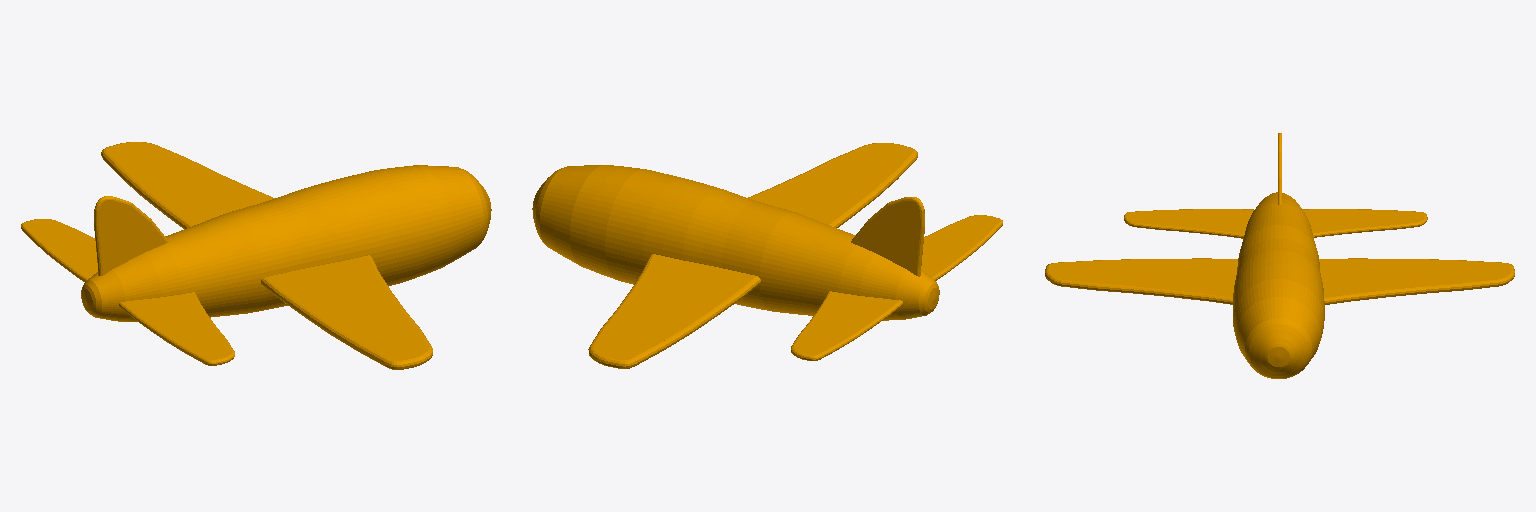
robot.urdf — airplane:
<?xml version="1.0"?>
<robot name="airplane">
  <link name="base_link">
    <inertial>
      <mass value="0.1" />
      <origin xyz="0 0 0" />
      <inertia  ixx="0.0002" ixy="0.0"  ixz="0.0"  iyy="0.0002"  iyz="0.0" izz="0.0002" />
    </inertial>
    <visual>
      <geometry>
        <mesh filename="../../meshes/contactdb/airplane.stl" scale="0.001 0.001 0.001" />
      </geometry>
    </visual>
    <collision>
      <geometry>
        <mesh filename="../../meshes/contactdb/airplane.stl" scale="0.001 0.001 0.001" />
      </geometry>
    </collision>
  </link>
</robot>

--- What the picture shows (computed from the rendered views, not written in the file) ---
The picture shows the robot from 3 angles, left to right: view 1: azimuth 30°, elevation 25°; view 2: azimuth 150°, elevation 25°; view 3: azimuth 270°, elevation 25°; orthographic projection.
Robot: airplane — 1 links, 0 joints (none); root link base_link; default pose: every joint at zero.
Visible links, largest first — view 1: base_link; view 2: base_link; view 3: base_link.
Boxes of the visible links, x1,y1,x2,y2 form: base_link: [21, 142, 491, 369]; base_link: [532, 143, 1002, 368]; base_link: [1045, 133, 1514, 378].
Size in the robot's own frame: 0.138 by 0.1784 by 0.05 metres.
1 mesh visuals loaded from 1 distinct referenced files (1 binary STL).